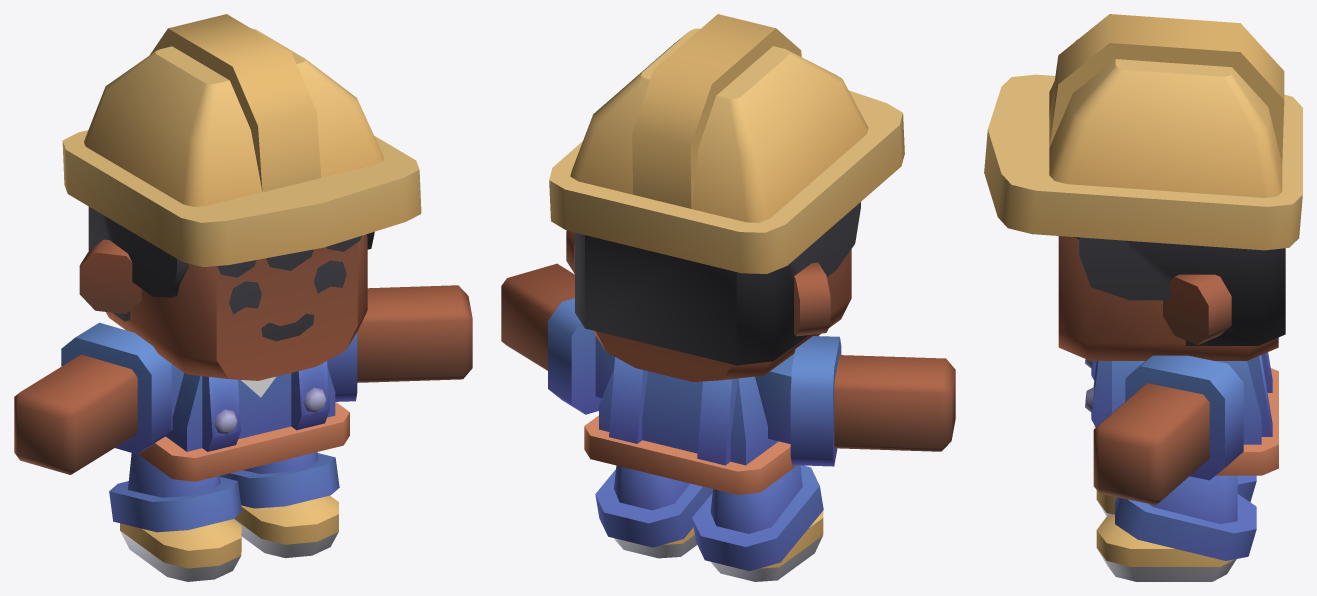
File: character-worker.obj
The picture shows the model from 3 angles, left to right: view 1: azimuth 30°, elevation 25°; view 2: azimuth 150°, elevation 25°; view 3: azimuth 270°, elevation 25°; orthographic projection. The views are drawn at different scales.
Visible parts, largest first — view 1: head-mesh, body-mesh; view 2: head-mesh, body-mesh; view 3: head-mesh, body-mesh.
Boxes of the visible parts, x1,y1,x2,y2 form: head-mesh: (62,14,421,380); body-mesh: (14,285,472,581); head-mesh: (549,14,904,381); body-mesh: (501,263,955,581); head-mesh: (984,14,1302,360); body-mesh: (1085,352,1278,581).
Size of the model in its own units: 0.7672 by 0.8241 by 0.464.
Materials: 1 (1 with a texture image).
